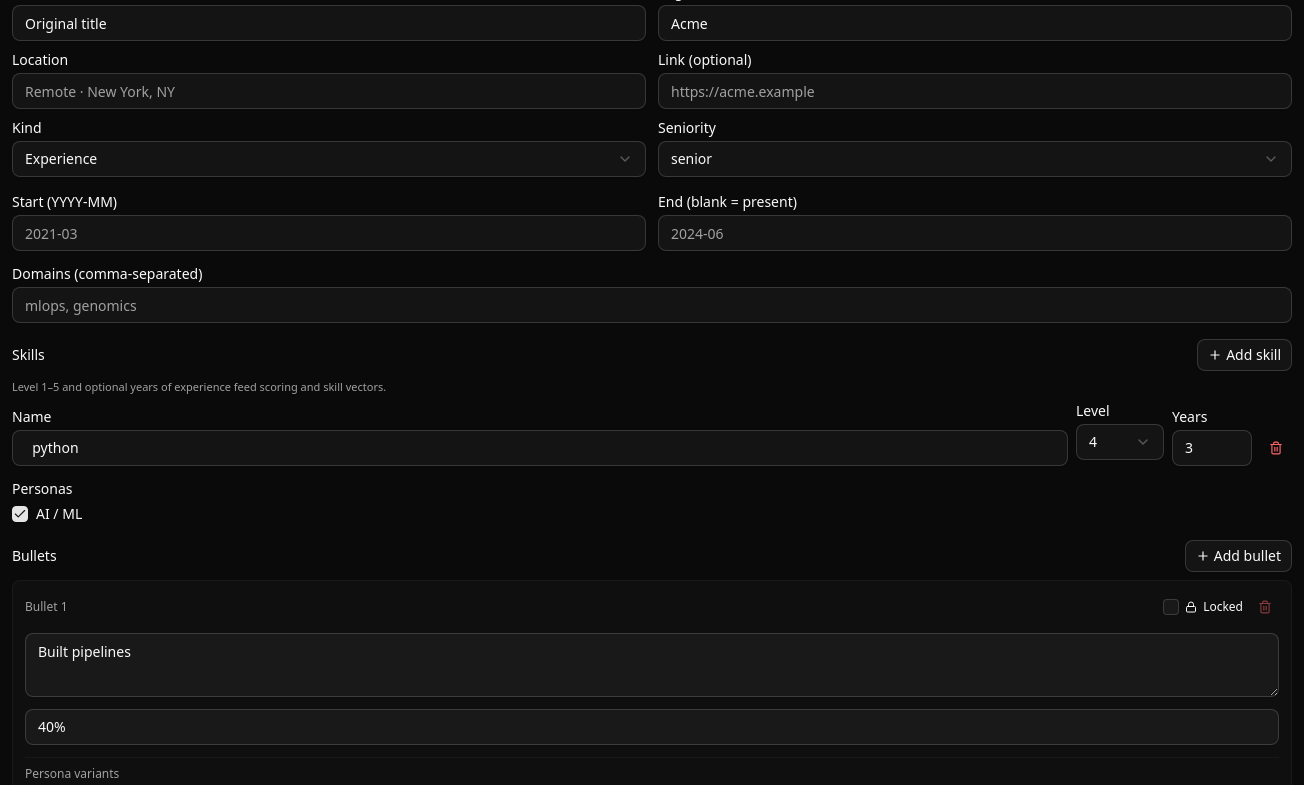
Test: BlockEditor save flow › disables save when title is cleared
Clear the field with placeholder "Senior ML Engineer" below "Title" at [329, 23], box [12, 5, 646, 41]
(page scrolled)
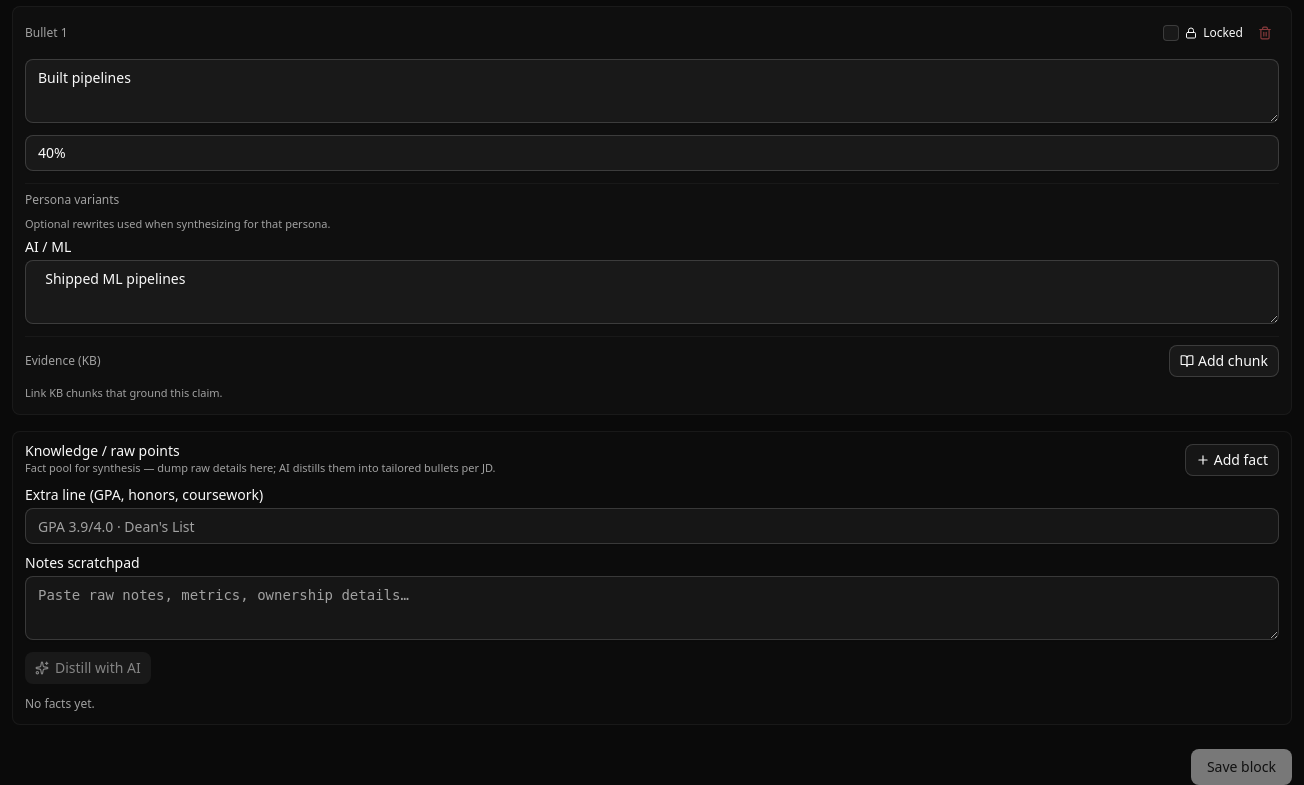
Now the button "Save block" is disabled, box [1191, 749, 1292, 784]
